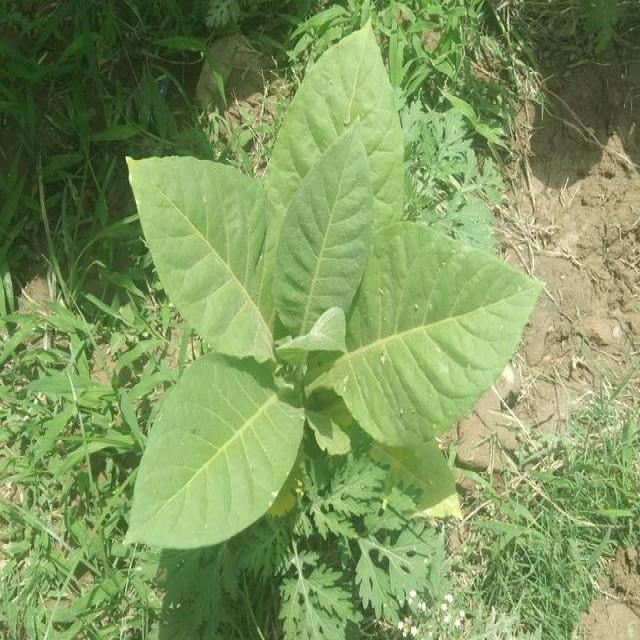crop: (109, 39, 530, 580)
